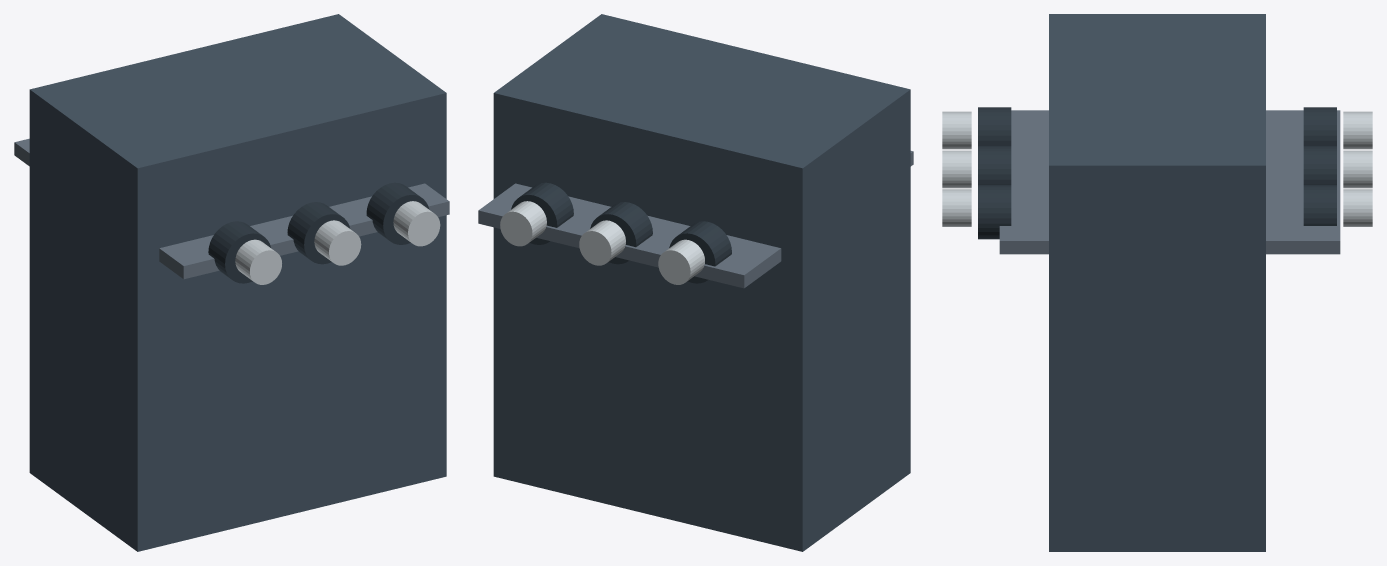
The model's file is contactor.glb.
3 views of the same model, side by side, from view 1: azimuth 30°, elevation 25°; view 2: azimuth 150°, elevation 25°; view 3: azimuth 270°, elevation 25° (orthographic).
Parts seen in each view (by area): view 1: contactor_0, contactor_1, contactor_3, contactor_7, contactor_11, contactor_13, contactor_9, contactor_5; view 2: contactor_0, contactor_1, contactor_10, contactor_14, contactor_6, contactor_12, contactor_4, contactor_8; view 3: contactor_0, contactor_1, contactor_11, contactor_12, contactor_3, contactor_4, contactor_7, contactor_8, contactor_5, contactor_6, contactor_9, contactor_10 (+2 smaller).
Boxes of the visible parts, box(x1,y1,x2,y2) form: contactor_0: box(29, 14, 446, 551); contactor_1: box(14, 138, 449, 279); contactor_3: box(208, 221, 270, 283); contactor_7: box(287, 202, 350, 264); contactor_11: box(366, 182, 429, 244); contactor_13: box(393, 201, 440, 246); contactor_9: box(314, 220, 361, 265); contactor_5: box(235, 239, 281, 284); contactor_0: box(493, 14, 910, 551); contactor_1: box(478, 151, 913, 288); contactor_10: box(579, 220, 625, 265); contactor_14: box(500, 201, 546, 246); contactor_6: box(658, 239, 704, 284); contactor_12: box(511, 182, 573, 244); contactor_4: box(669, 221, 731, 283); contactor_8: box(590, 202, 652, 264); contactor_0: box(1049, 14, 1265, 551); contactor_1: box(999, 110, 1340, 254); contactor_11: box(978, 185, 1011, 239); contactor_12: box(1303, 185, 1336, 225); contactor_3: box(978, 107, 1011, 145); contactor_4: box(1303, 107, 1336, 145); contactor_7: box(978, 146, 1011, 184); contactor_8: box(1303, 146, 1336, 184); contactor_5: box(942, 111, 971, 149); contactor_6: box(1343, 111, 1372, 149); contactor_9: box(942, 150, 971, 188); contactor_10: box(1343, 150, 1372, 188).
Bounding box in the file's own units: 0.86 × 1.02 × 1.03.
